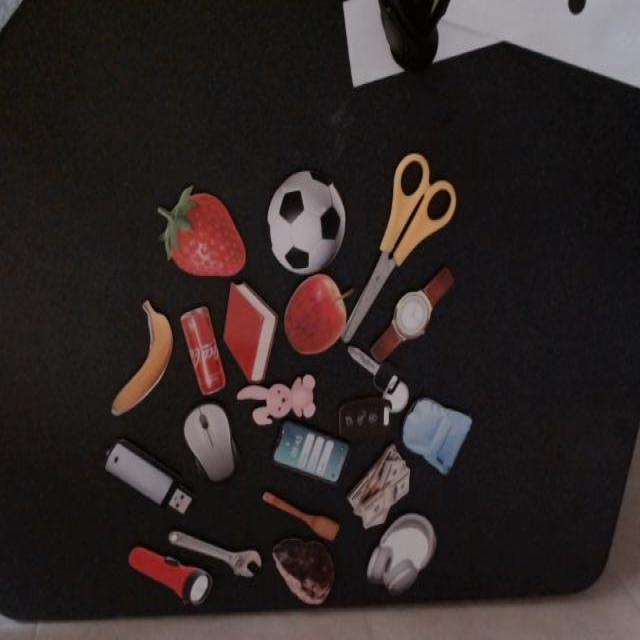Other Objects: (342, 153, 457, 344), (358, 262, 466, 369), (102, 432, 198, 524), (396, 379, 477, 482), (269, 170, 346, 273), (337, 347, 414, 450), (177, 389, 251, 493), (167, 511, 265, 586), (124, 535, 217, 614), (111, 300, 174, 415), (284, 273, 355, 356), (366, 513, 436, 597), (262, 479, 343, 548), (347, 445, 410, 529), (273, 420, 351, 485), (272, 537, 336, 607), (237, 375, 318, 428), (180, 307, 227, 397)
